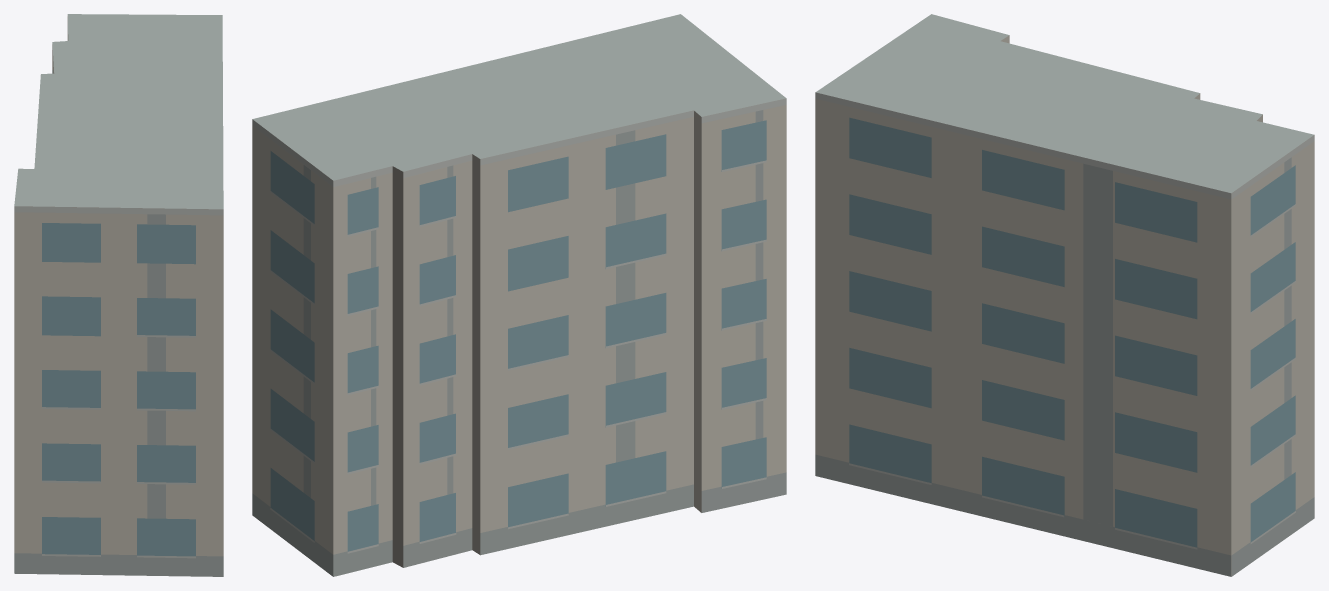
Rendered from survey-upis-32891877.glb.
3 views of the same model, side by side, from view 1: azimuth 30°, elevation 25°; view 2: azimuth 150°, elevation 25°; view 3: azimuth 270°, elevation 25° (orthographic). The views are drawn at different scales.
Parts seen in each view (by area): view 1: survey-upis-32891877.tmp; view 2: survey-upis-32891877.tmp; view 3: survey-upis-32891877.tmp.
Boxes of the visible parts, x1,y1,x2,y2 form: survey-upis-32891877.tmp: [14, 14, 223, 576]; survey-upis-32891877.tmp: [252, 14, 786, 576]; survey-upis-32891877.tmp: [815, 14, 1314, 576].
Size of the model in its own units: 14.94 by 14.9 by 17.58.
